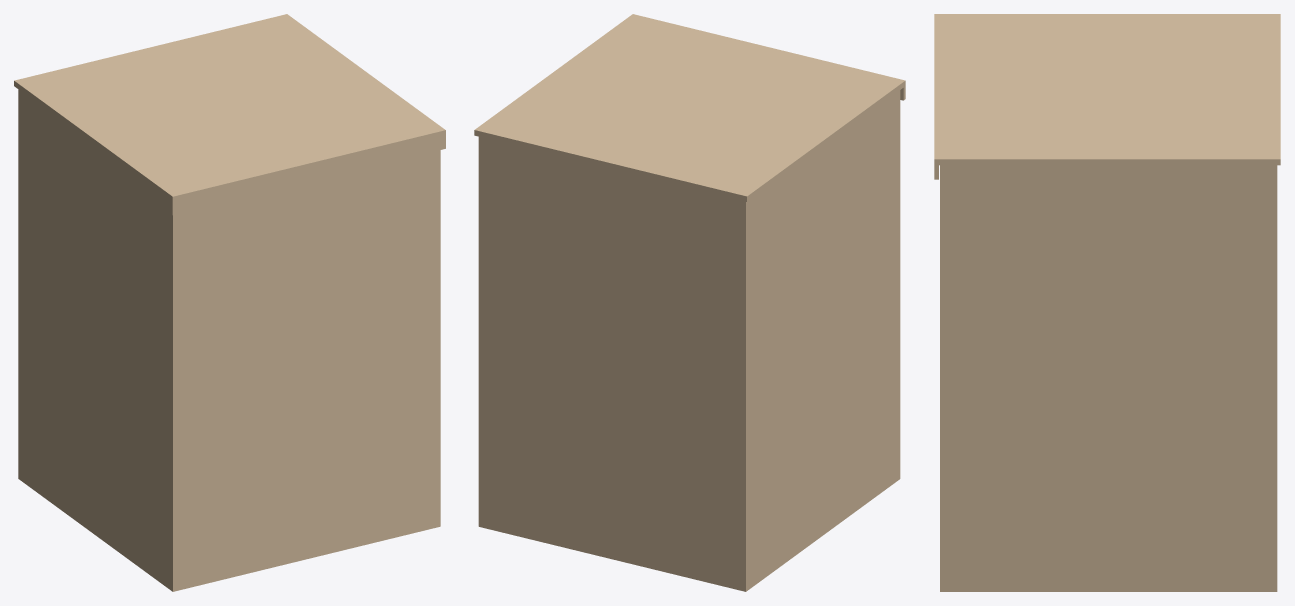
The model's file is dark_box.glb.
The picture shows the model from 3 angles, left to right: view 1: azimuth 30°, elevation 25°; view 2: azimuth 150°, elevation 25°; view 3: azimuth 270°, elevation 25°; orthographic projection. The views are drawn at different scales.
Parts seen in each view (by area): view 1: db_wall_s, db_wall_w, db_lid, db_lid_lip, db_wall_e, db_floor, db_wall_n; view 2: db_wall_n, db_wall_w, db_lid, db_floor, db_wall_s, db_wall_e, db_lid_lip; view 3: db_wall_e, db_lid, db_wall_s, db_wall_n, db_floor, db_lid_lip.
Boxes of the visible parts, x1,y1,x2,y2 form: db_wall_s: [169, 150, 440, 591]; db_wall_w: [18, 89, 178, 590]; db_lid: [14, 14, 444, 200]; db_lid_lip: [170, 129, 445, 215]; db_wall_e: [435, 150, 440, 527]; db_floor: [18, 474, 440, 591]; db_wall_n: [18, 90, 21, 479]; db_wall_n: [478, 137, 748, 591]; db_wall_w: [740, 91, 900, 587]; db_lid: [474, 15, 903, 201]; db_floor: [478, 474, 900, 591]; db_wall_s: [897, 90, 900, 480]; db_wall_e: [478, 137, 483, 520]; db_lid_lip: [631, 14, 905, 100]; db_wall_e: [940, 165, 1277, 591]; db_lid: [936, 14, 1280, 165]; db_wall_s: [940, 165, 946, 591]; db_wall_n: [1270, 165, 1277, 590]; db_floor: [940, 587, 1277, 591]; db_lid_lip: [934, 14, 938, 179].
Bounding box in the file's own units: 0.306 × 0.426 × 0.308.
